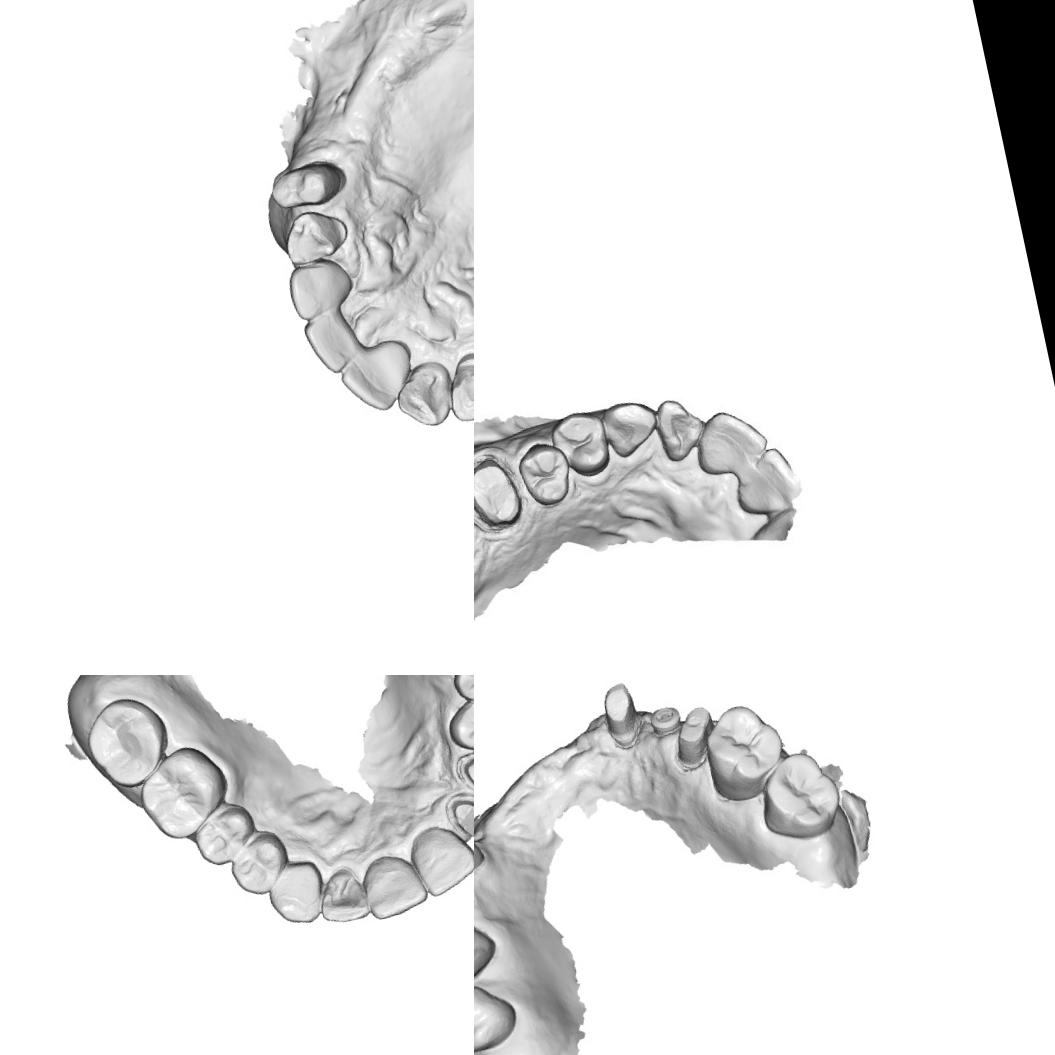canine: (276, 202, 355, 271), (261, 855, 330, 932), (599, 395, 662, 459), (439, 346, 474, 429)
crown: (264, 154, 350, 218), (665, 701, 723, 776), (474, 453, 526, 532), (596, 678, 647, 752), (443, 788, 474, 847), (451, 746, 474, 808)
implant: (647, 702, 684, 740)
incisor: (333, 335, 421, 420), (356, 846, 433, 924), (387, 354, 460, 434), (405, 817, 474, 901), (693, 403, 768, 476), (282, 254, 359, 324), (299, 304, 367, 380), (738, 444, 803, 518), (310, 860, 373, 928), (654, 394, 708, 460)
molar: (130, 739, 238, 848), (696, 696, 794, 806), (77, 690, 178, 796), (750, 744, 848, 848), (474, 971, 523, 1055), (474, 903, 504, 999)
premolar: (222, 826, 297, 901), (186, 798, 262, 869), (551, 406, 616, 484), (513, 436, 574, 512), (440, 692, 474, 761), (445, 675, 474, 706)
